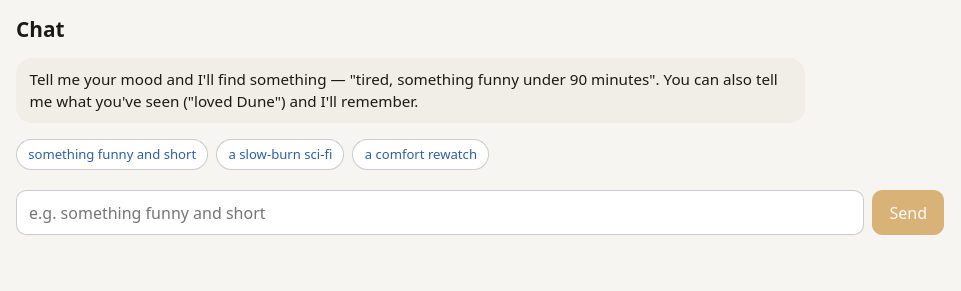
Test: Chat write actions › clears the conversation when New chat is clicked
In the field with test id "chat-input": (440, 213) [16,190,864,235], type "hi"
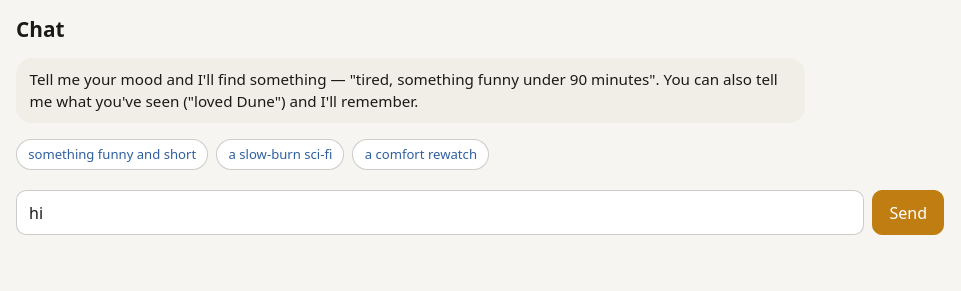
Click the button with test id "chat-send": (908, 213) [872,190,944,235]
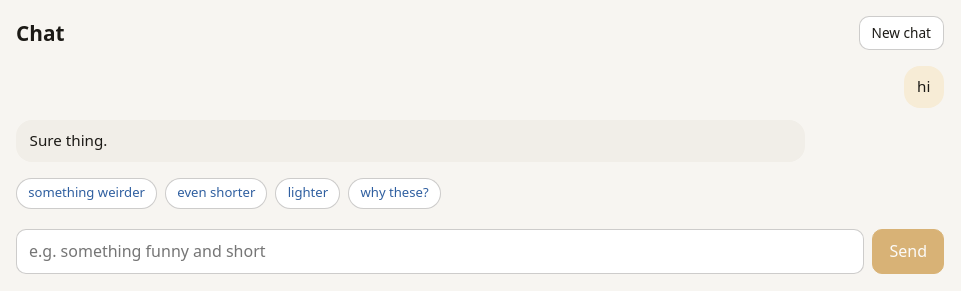
Check: the text "Sure thing." is shown, box [30,130,107,150]
Click the button with test id "chat-new": (901, 33) [859,16,944,50]
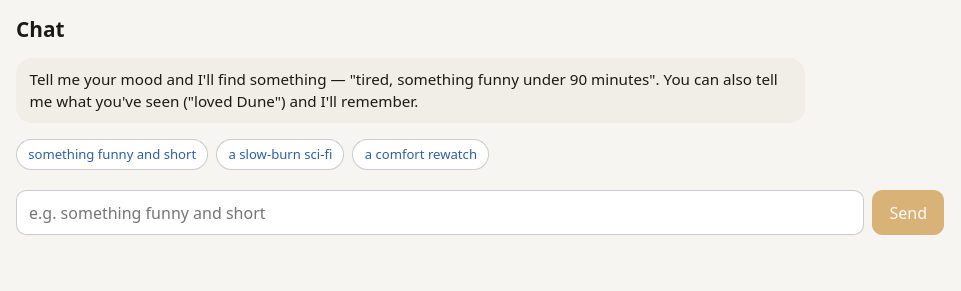
Check: the text "Sure thing." is gone
Check: the element with test id "chat-greeting" is shown, box [16,58,805,123]
